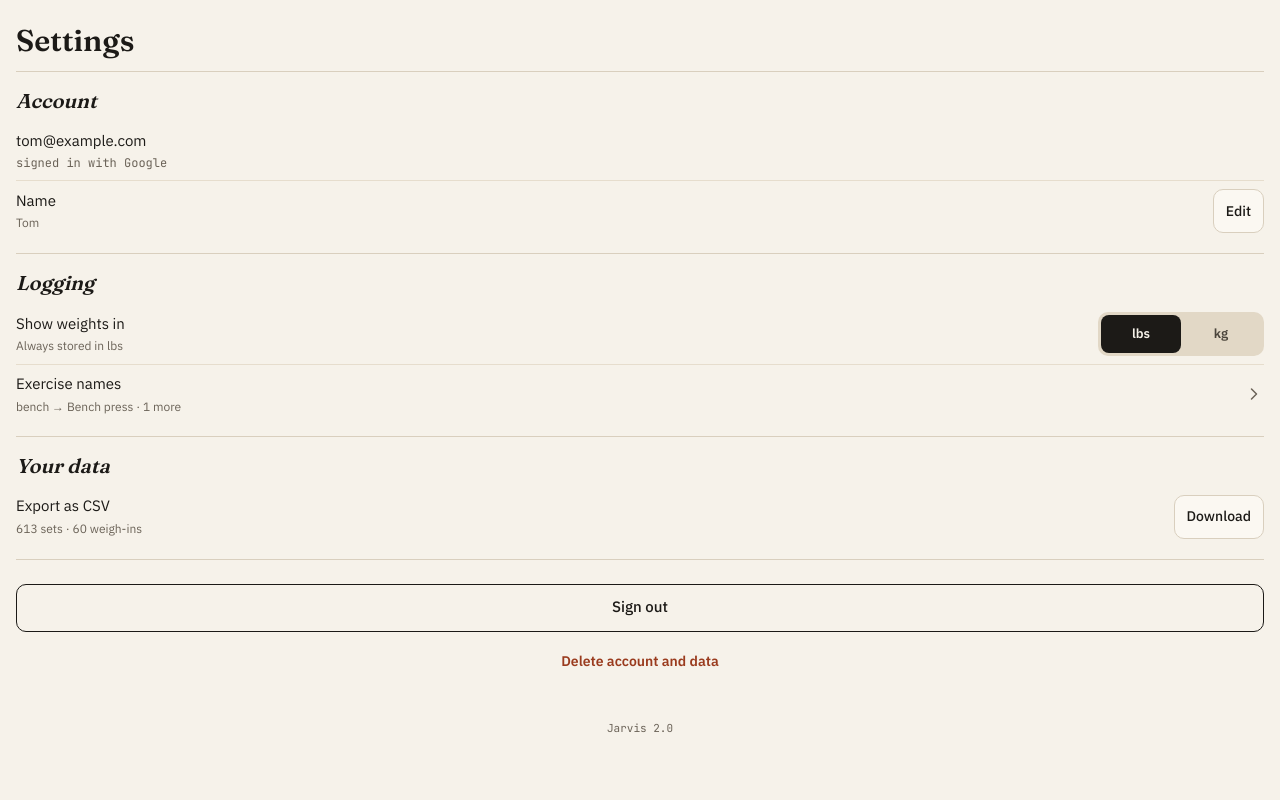
Settings › deletes only after DELETE is typed
Later steps or results of the test are not shown.
Click the button "Delete account and data": (640, 662) [549,640,731,684]
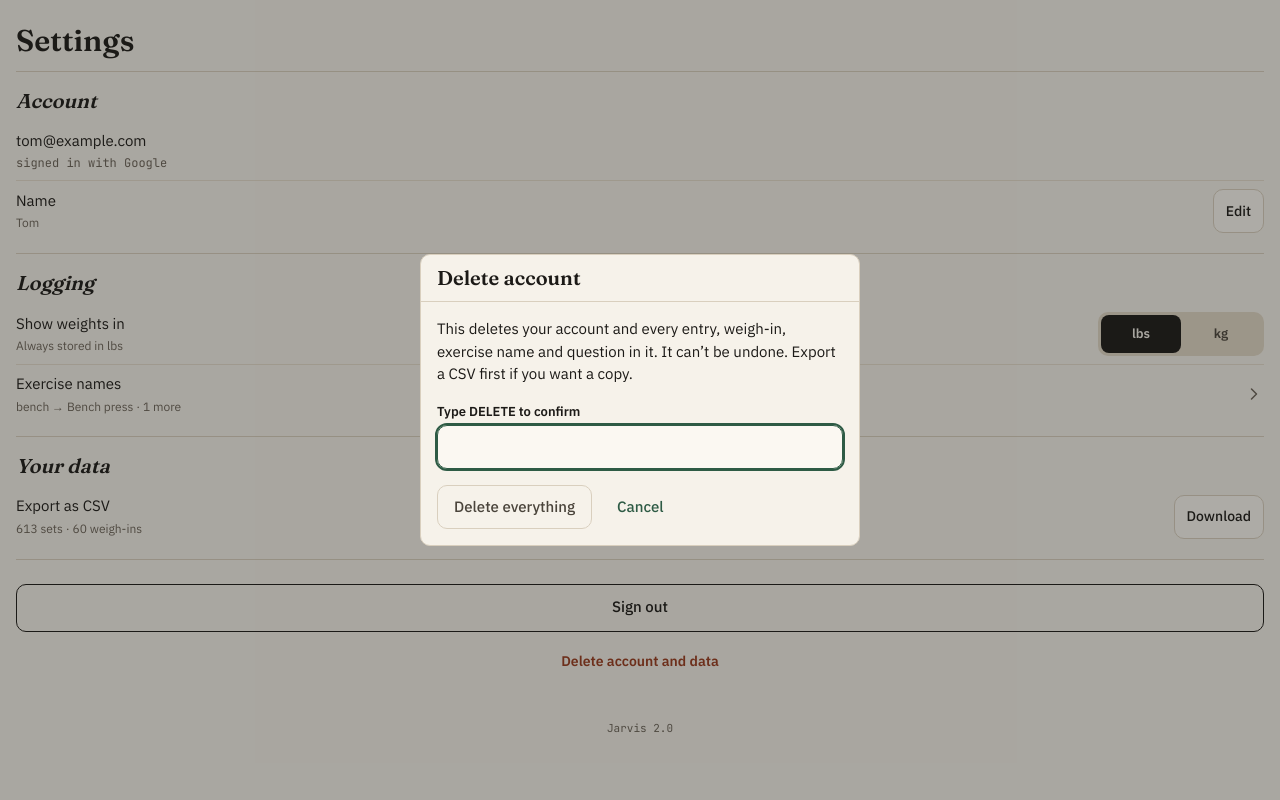
In the field labelled "Type DELETE to confirm": (640, 447) [437,425,843,469], type "delete"
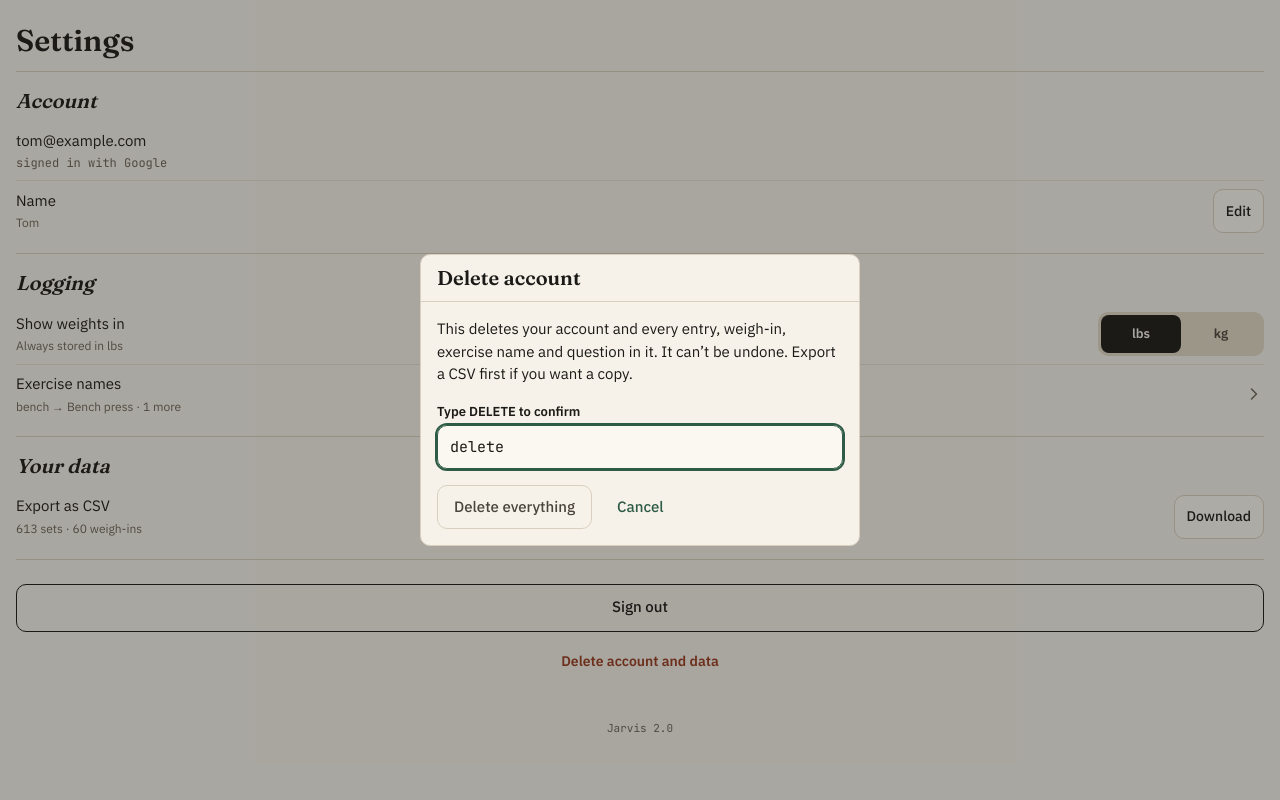
Result: the button "Delete everything" is disabled at [437,485,592,529]
Replace the text in the field labelled "Type DELETE to confirm" with "DELETE": (640, 447) [437,425,843,469]
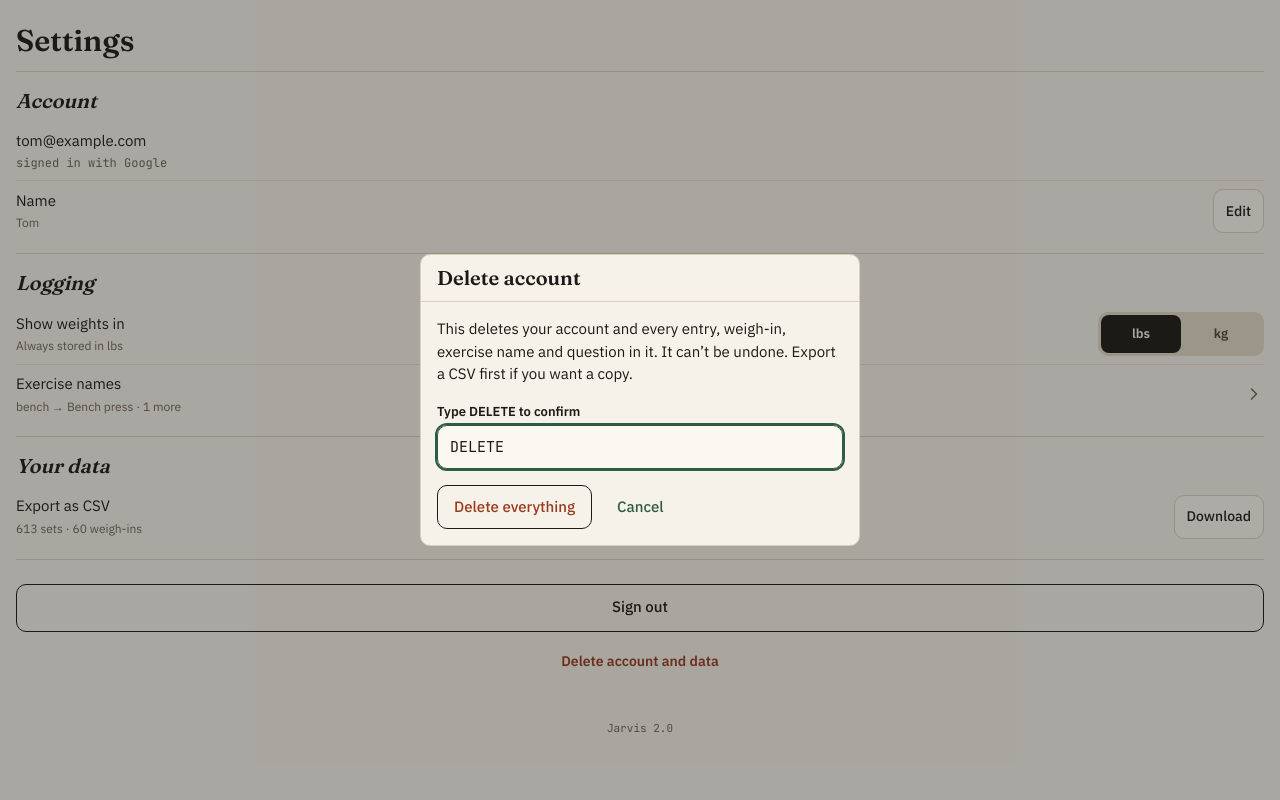
Result: the button "Delete everything" is enabled at [437,485,592,529]
